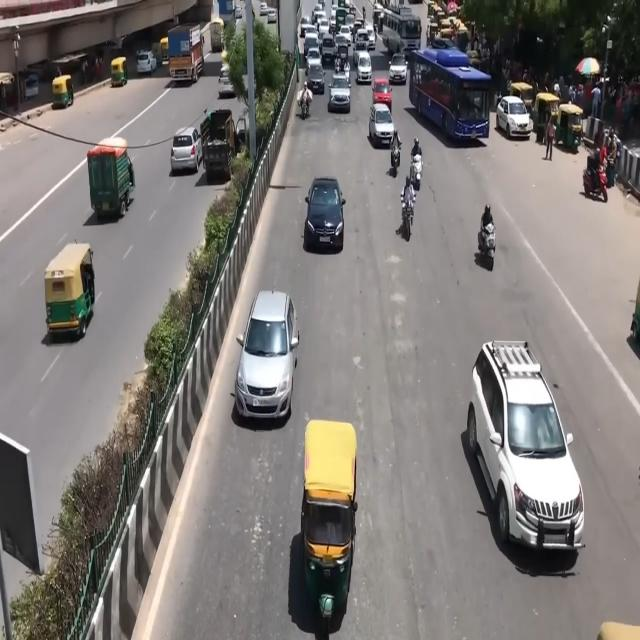auto: (300, 420, 358, 626), (44, 240, 96, 337), (86, 136, 136, 222), (554, 102, 585, 153), (533, 92, 562, 144), (509, 80, 535, 114), (52, 74, 74, 108), (110, 56, 128, 88), (210, 17, 225, 52), (160, 37, 168, 64)
bike-auto: (583, 155, 609, 202), (478, 214, 497, 268), (401, 176, 416, 232), (409, 151, 423, 190), (390, 136, 402, 175), (300, 81, 310, 114), (335, 56, 341, 74)
